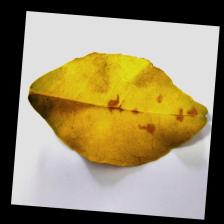black spot: (95, 93, 200, 143)
